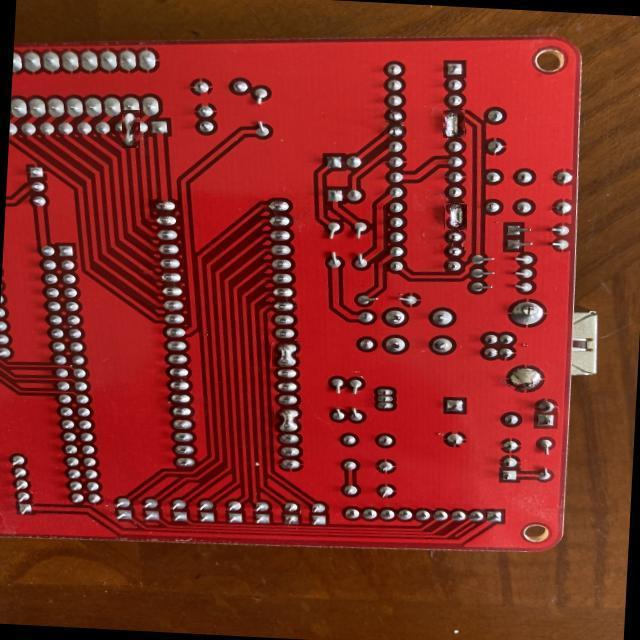damged: (274, 406, 305, 434), (117, 114, 146, 143), (271, 341, 302, 367), (442, 109, 465, 138), (444, 203, 467, 230)
